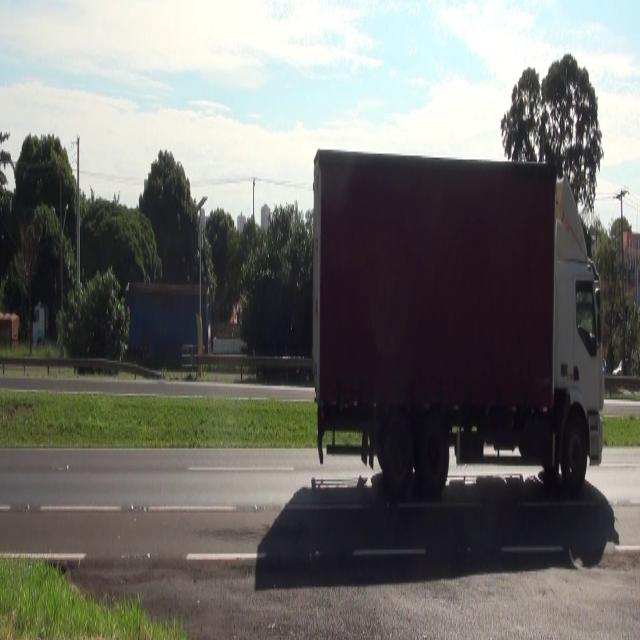-axle: (414, 414, 450, 500), (383, 412, 411, 494), (561, 416, 586, 494)
